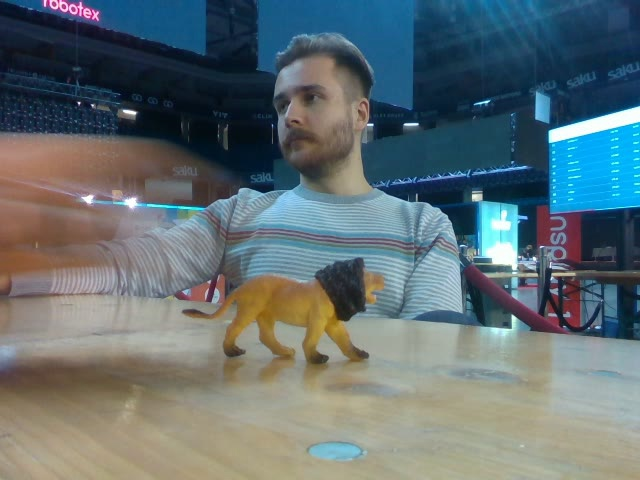toy: (179, 249, 385, 368)
